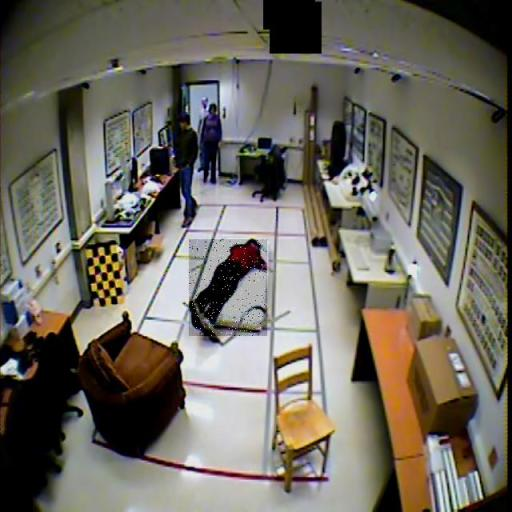Fall: (189, 239, 267, 336)
